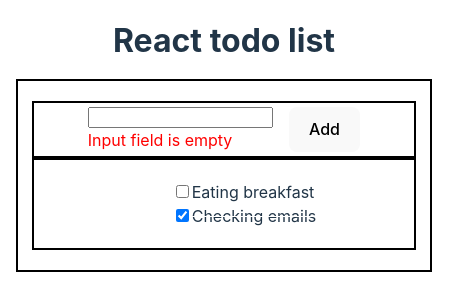
Scenario: Todo spec › Add new task "Going to gym"
Type "Going to gym" into the field at point(181, 118), box [88,107,273,128]
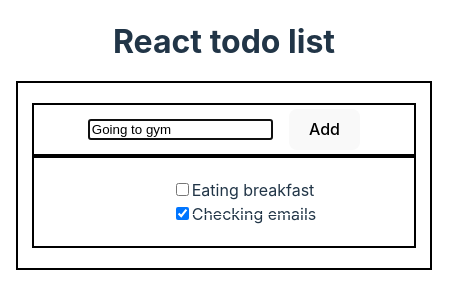
Click the button "Add" at point(325, 130), box [289,109,360,150]
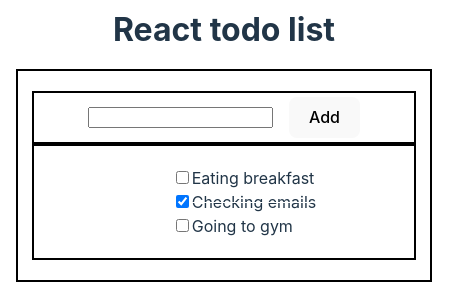
Now the text "Going to gym" is shown, box [192,216,293,236]
Now the field is empty, box [88,107,273,128]
